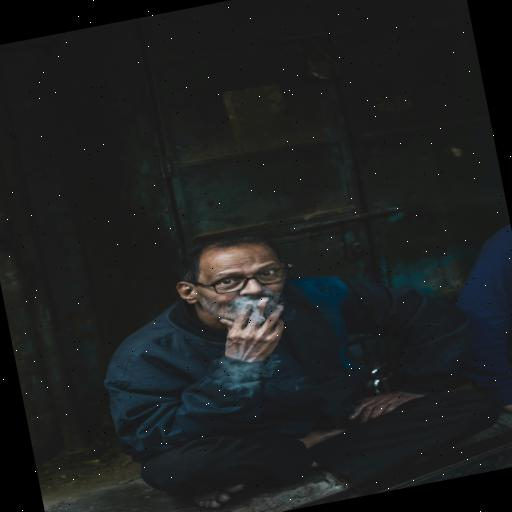terdeteksi merokok: (209, 264, 298, 339)
